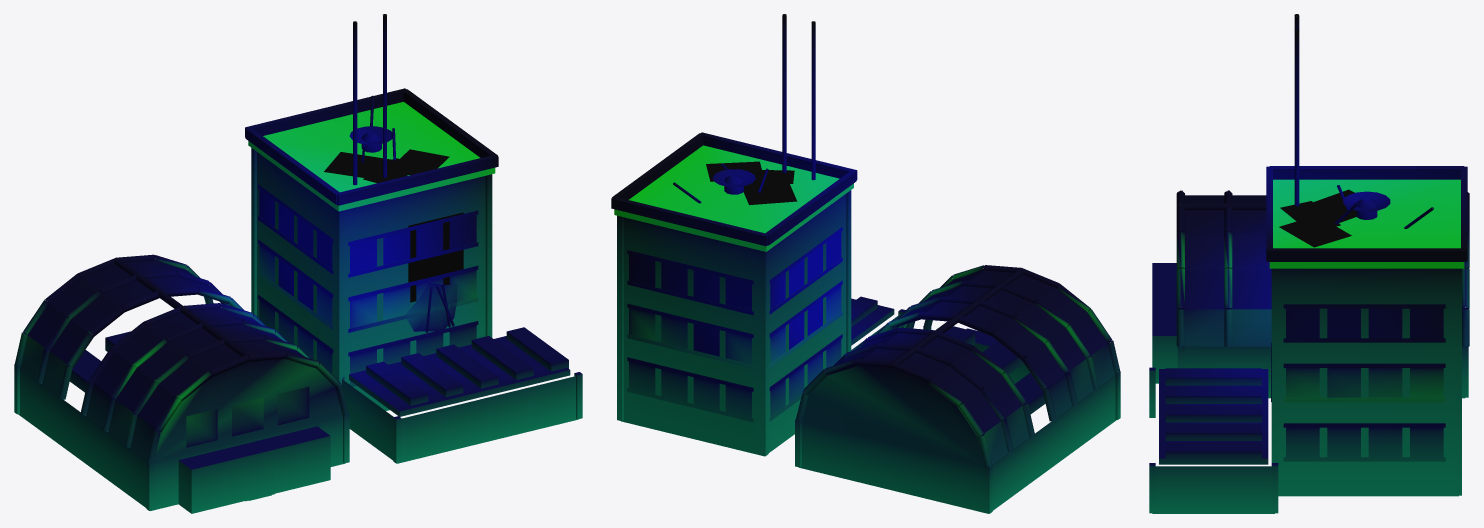
Rendered from l_gatecontrol_damaged.glb.
The picture shows the model from 3 angles, left to right: view 1: azimuth 30°, elevation 25°; view 2: azimuth 150°, elevation 25°; view 3: azimuth 270°, elevation 25°; orthographic projection. The views are drawn at different scales.
Visible parts, largest first — view 1: lod0; view 2: lod0; view 3: lod0.
Part boxes in pixels (x1,y1,x2,y2): lod0: [14, 14, 582, 513]; lod0: [611, 14, 1120, 513]; lod0: [1149, 14, 1469, 513].
Size of what is drawn, in the model's own units: 23.93 by 21 by 14.65.
